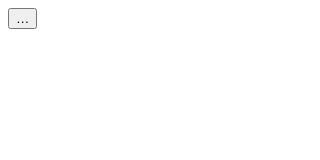
Test: gives the menu keyboard navigation, disabled items, and focus restoration
This screenshot has width=320, height=160.
Click the button named "More": (23,18) [8,8,37,29]
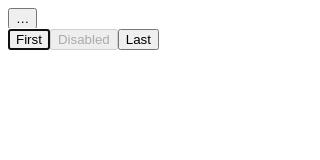
Press ArrowDown in the menu item "First", box [8,29,50,50]
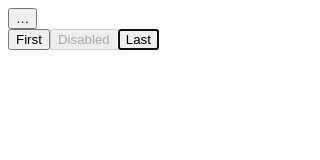
Click the menu item "Last": (138,40) [118,29,159,50]
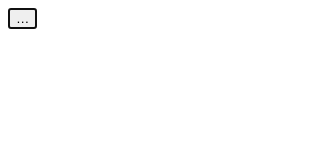
Now the menu is gone
